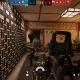Character: (19, 32, 42, 71)
Friend_label: (29, 28, 36, 32)
Head: (28, 32, 34, 40)
